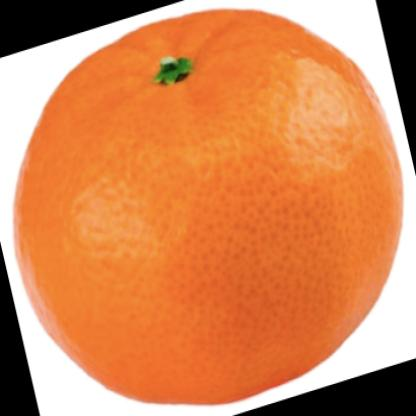fresh: (13, 8, 402, 401)
